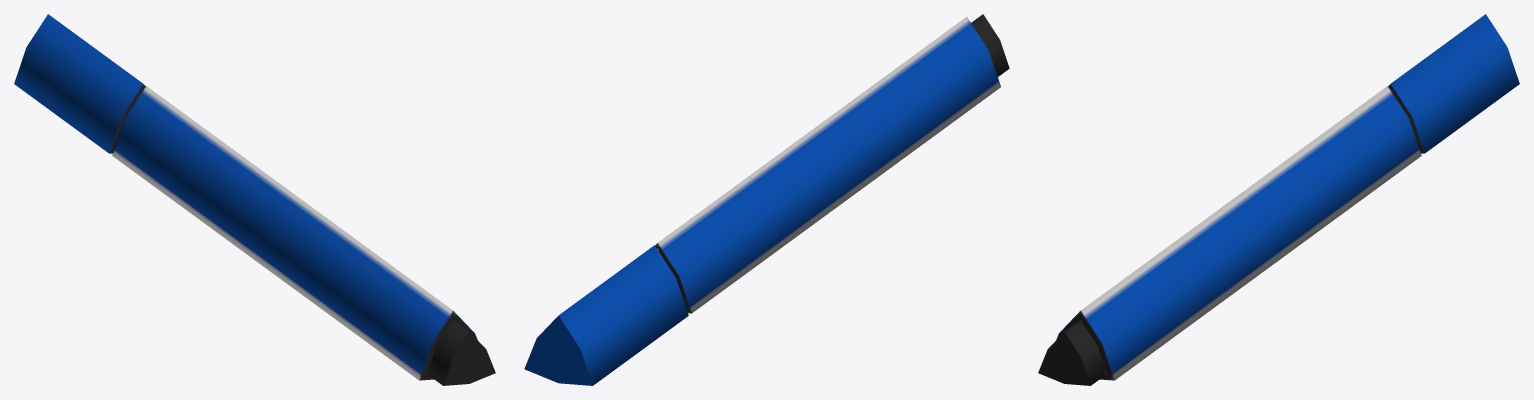
File: MarkerBlue.fbx
The picture shows the model from 3 angles, left to right: view 1: azimuth 30°, elevation 25°; view 2: azimuth 150°, elevation 25°; view 3: azimuth 330°, elevation 25°; orthographic projection.
Parts seen in each view (by area): view 1: MarkerBlue; view 2: MarkerBlue; view 3: MarkerBlue.
Part boxes in pixels (left/top/right/bottom): MarkerBlue: left=14, top=14, right=495, bottom=385; MarkerBlue: left=524, top=14, right=1009, bottom=385; MarkerBlue: left=1038, top=14, right=1519, bottom=385.
Bounding box in the file's own units: 1.21 × 1.15 × 12.99.
